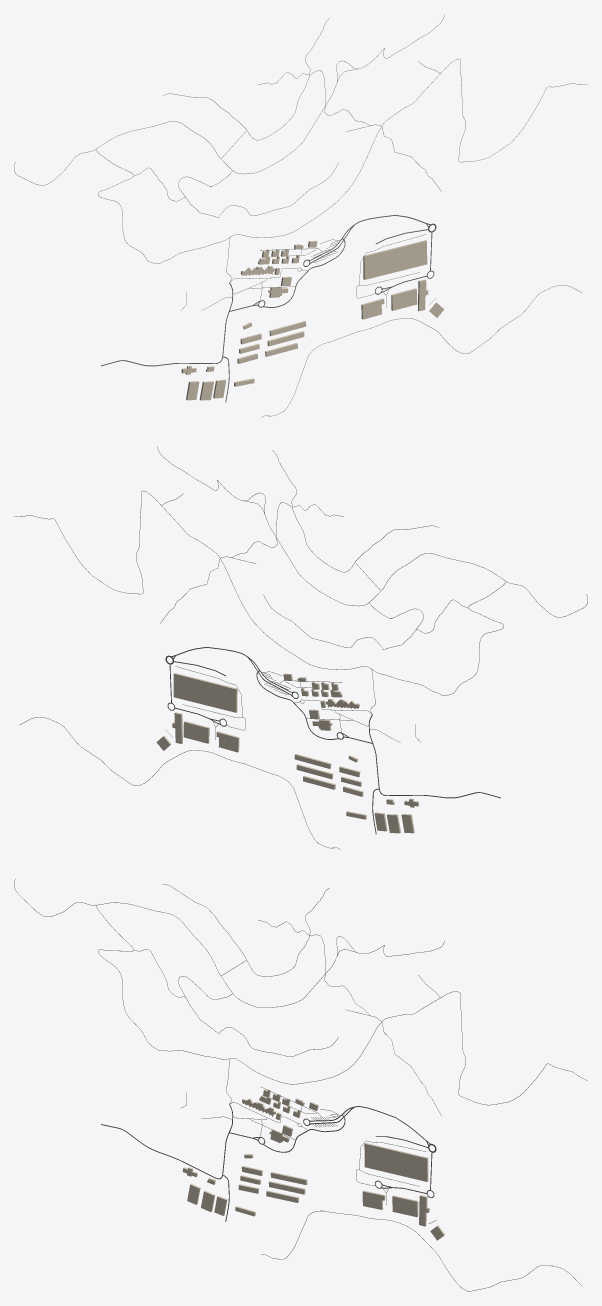
Rendered from historic-palestine-08_23_3497_3176.glb.
3 views of the same model, one above another, from view 1: azimuth 30°, elevation 25°; view 2: azimuth 150°, elevation 25°; view 3: azimuth 330°, elevation 25° (orthographic).
Visible parts, largest first — view 1: Building_.006, Road .005; view 2: Building_.006, Road .005; view 3: Building_.006, Road .005.
Boxes of the visible parts, x1,y1,x2,y2 form: Building_.006: (363, 240, 427, 279); Road .005: (96, 58, 587, 263); Building_.006: (173, 673, 237, 712); Road .005: (14, 490, 505, 695); Building_.006: (364, 1143, 428, 1181); Road .005: (96, 905, 587, 1105).
Bounding box in the file's own units: 2111 × 1350 × 8.7.
